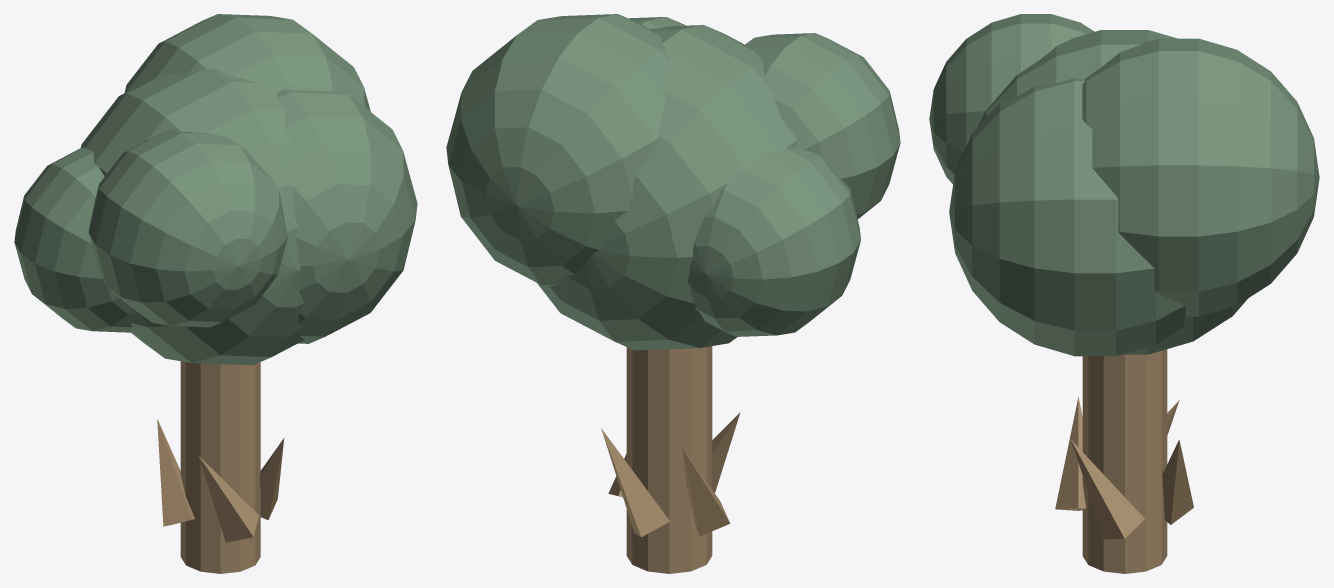
File: mdl_vegetation_tree_ceiba_001.glb
3 views of the same model, side by side, from view 1: azimuth 30°, elevation 25°; view 2: azimuth 150°, elevation 25°; view 3: azimuth 270°, elevation 25° (orthographic). The views are drawn at different scales.
Visible parts, largest first — view 1: m_manigua, m_madera; view 2: m_manigua, m_madera; view 3: m_manigua, m_madera.
Boxes of the visible parts, left/top/right/bottom form: m_manigua: left=14, top=14, right=417, bottom=365; m_madera: left=157, top=361, right=284, bottom=573; m_manigua: left=446, top=14, right=900, bottom=350; m_madera: left=601, top=346, right=740, bottom=573; m_manigua: left=929, top=14, right=1319, bottom=356; m_madera: left=1055, top=349, right=1193, bottom=573.
Bounding box in the file's own units: 5.17 × 7.22 × 4.81.
